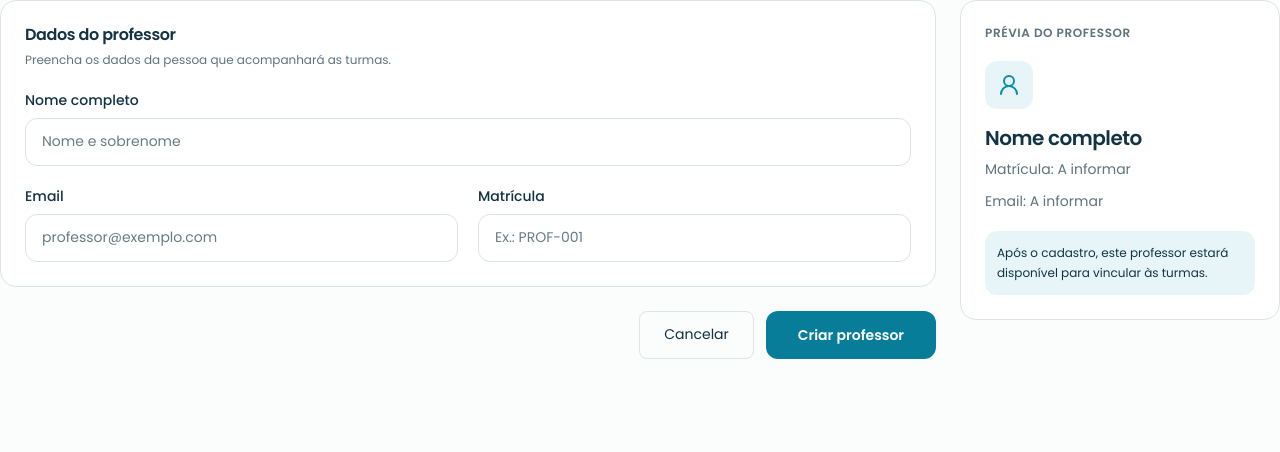
Scenario: formulário mostra erro de permissão e limpa ao editar
The width and height of the screenshot is (1280, 452).
Type "Maria Silva" into the field named "name" at x=468, y=142, box [25, 118, 911, 166]
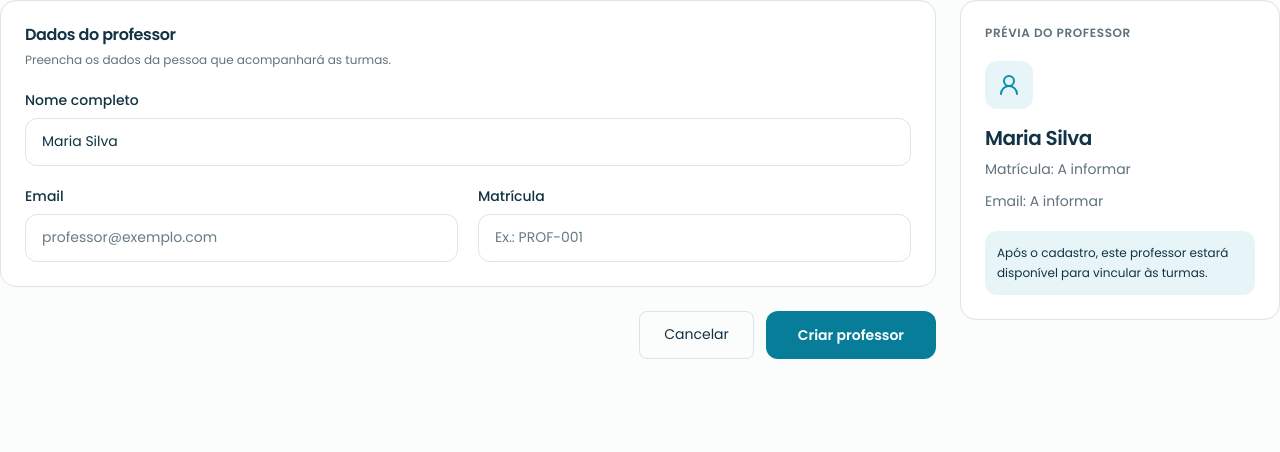
Type "maria@example.com" into the field labelled "Email" at x=242, y=238, box [25, 214, 458, 262]
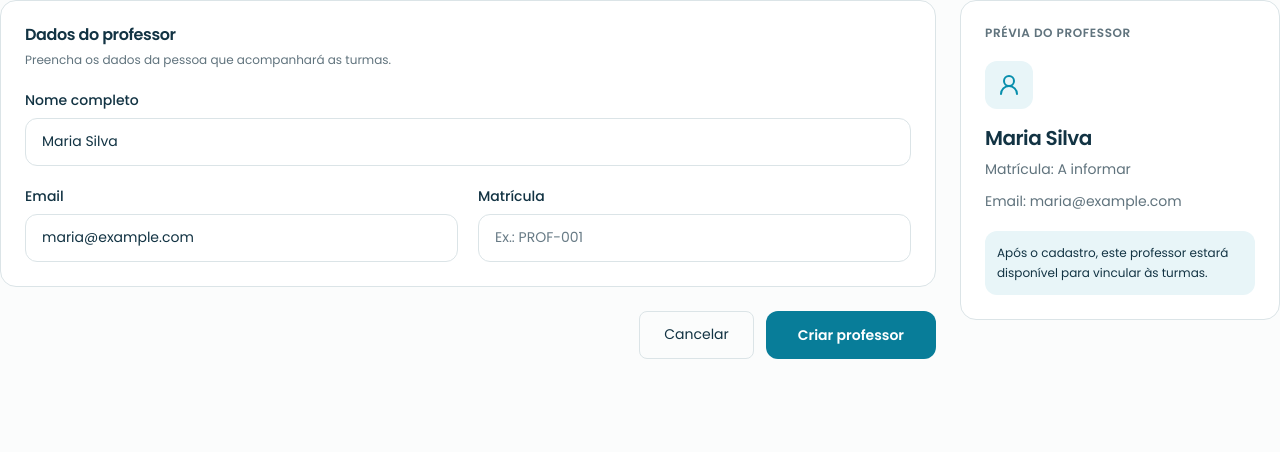
Type "t-1" into the field labelled "Matrícula" at x=694, y=238, box [478, 214, 911, 262]
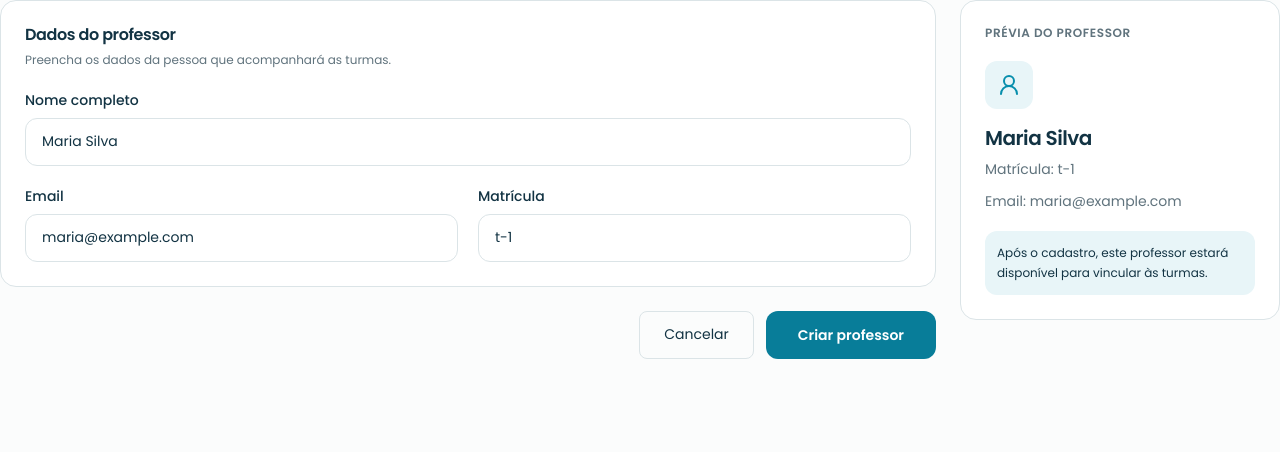
Submit the form
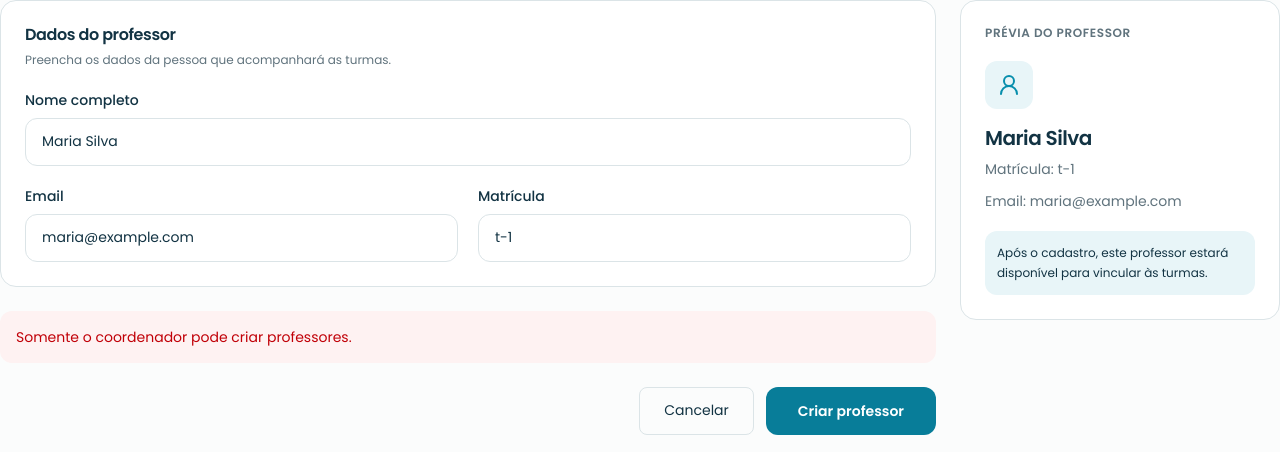
Now the message "Somente o coordenador pode criar professores." is shown, box [0, 311, 936, 363]
Replace the text in the field named "name" with "Outro Nome" at x=468, y=142, box [25, 118, 911, 166]
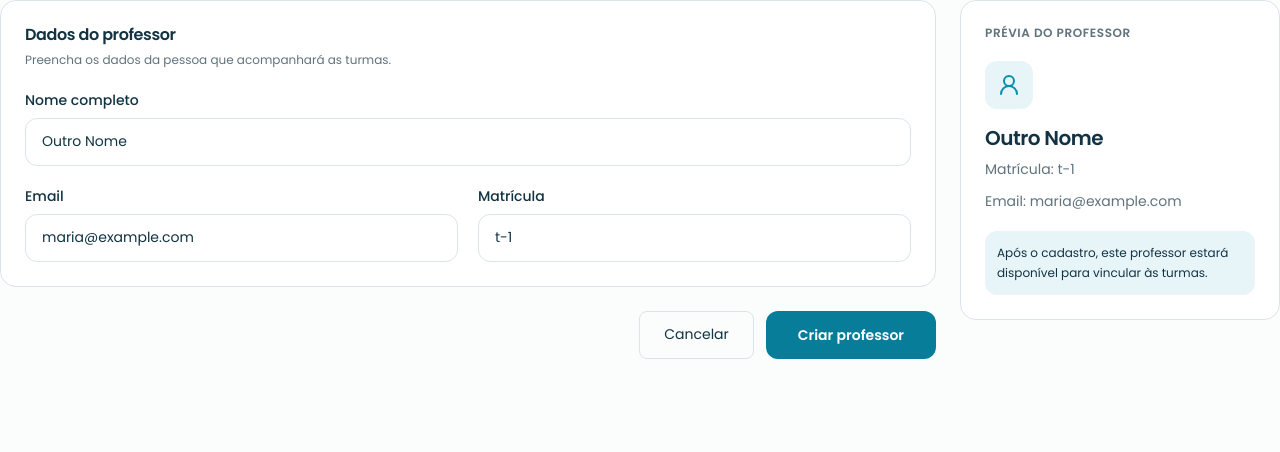
Now the message "Somente o coordenador pode criar professores." is gone
